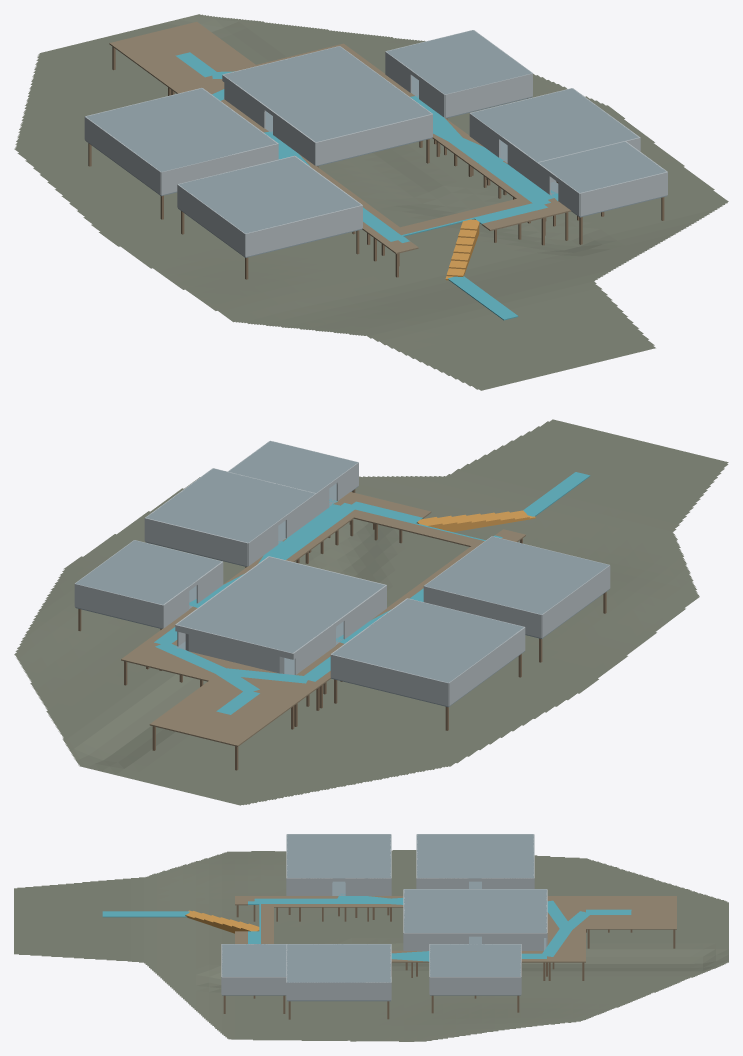
Rendered from supported-arrival.glb.
3 renders of one model, top to bottom at view 1: azimuth 30°, elevation 25°; view 2: azimuth 150°, elevation 25°; view 3: azimuth 270°, elevation 25°, orthographic. The views are drawn at different scales.
Parts seen in each view (by area): view 1: Saved editor macroterrain WLD-11, Ceiling cap warehouse, Ceiling cap chapel, Ceiling cap house-a, Ceiling cap house-b, Ceiling cap shack, Ceiling cap pump, Wall warehouse S, Wall house-a S, Wall pump S, Wall chapel S, Wall shack S (+15 smaller); view 2: Saved editor macroterrain WLD-11, Ceiling cap warehouse, Ceiling cap chapel, Ceiling cap house-a, Ceiling cap house-b, Ceiling cap shack, Ceiling cap pump, Wall chapel N, Flat route shell Wall warehouse N, Wall house-b N, Wall shack N, Wall house-a N (+16 smaller); view 3: Saved editor macroterrain WLD-11, Ceiling cap warehouse, Ceiling cap chapel, Ceiling cap house-a, Ceiling cap house-b, Ceiling cap shack, Ceiling cap pump, Wall house-b E, Wall shack E, Wall pump E, Flat route shell Wall warehouse E.001, Flat route shell Wall warehouse E (+12 smaller).
Part boxes in pixels (x1=…): Saved editor macroterrain WLD-11: x1=14, y1=14, x2=728, y2=390; Ceiling cap warehouse: x1=223, y1=46, x2=431, y2=141; Ceiling cap chapel: x1=85, y1=88, x2=276, y2=171; Ceiling cap house-a: x1=179, y1=156, x2=361, y2=233; Ceiling cap house-b: x1=471, y1=88, x2=638, y2=162; Ceiling cap shack: x1=386, y1=30, x2=531, y2=94; Ceiling cap pump: x1=538, y1=141, x2=666, y2=192; Wall warehouse S: x1=315, y1=114, x2=432, y2=165; Wall house-a S: x1=245, y1=205, x2=362, y2=256; Wall pump S: x1=580, y1=172, x2=667, y2=216; Wall chapel S: x1=161, y1=143, x2=278, y2=195; Wall shack S: x1=445, y1=73, x2=532, y2=117; Saved editor macroterrain WLD-11: x1=14, y1=419, x2=728, y2=805; Ceiling cap warehouse: x1=176, y1=557, x2=384, y2=652; Ceiling cap chapel: x1=332, y1=598, x2=523, y2=682; Ceiling cap house-a: x1=424, y1=536, x2=609, y2=614; Ceiling cap house-b: x1=146, y1=468, x2=314, y2=542; Ceiling cap shack: x1=75, y1=540, x2=221, y2=604; Ceiling cap pump: x1=228, y1=441, x2=357, y2=492; Wall chapel N: x1=330, y1=654, x2=448, y2=706; Flat route shell Wall warehouse N: x1=175, y1=625, x2=293, y2=673; Wall house-b N: x1=145, y1=518, x2=247, y2=566; Wall shack N: x1=75, y1=583, x2=163, y2=628; Wall house-a N: x1=424, y1=586, x2=541, y2=637; Saved editor macroterrain WLD-11: x1=14, y1=850, x2=728, y2=1041; Ceiling cap warehouse: x1=404, y1=889, x2=546, y2=932; Ceiling cap chapel: x1=417, y1=834, x2=533, y2=878; Ceiling cap house-a: x1=287, y1=834, x2=390, y2=878; Ceiling cap house-b: x1=287, y1=944, x2=390, y2=982; Ceiling cap shack: x1=430, y1=944, x2=520, y2=976; Ceiling cap pump: x1=222, y1=944, x2=286, y2=976; Wall house-b E: x1=287, y1=982, x2=390, y2=1000; Wall shack E: x1=430, y1=977, x2=520, y2=994; Wall pump E: x1=222, y1=977, x2=286, y2=994; Flat route shell Wall warehouse E.001: x1=404, y1=933, x2=468, y2=950; Flat route shell Wall warehouse E: x1=482, y1=933, x2=546, y2=950.
Size of the model in its own units: 70 by 7.47 by 110.
21 materials, 10 textured.
